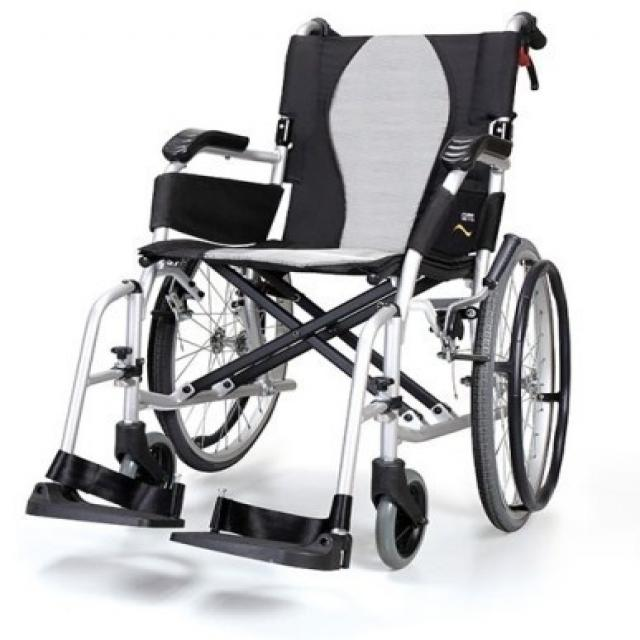wheelchair: (17, 7, 605, 593)
